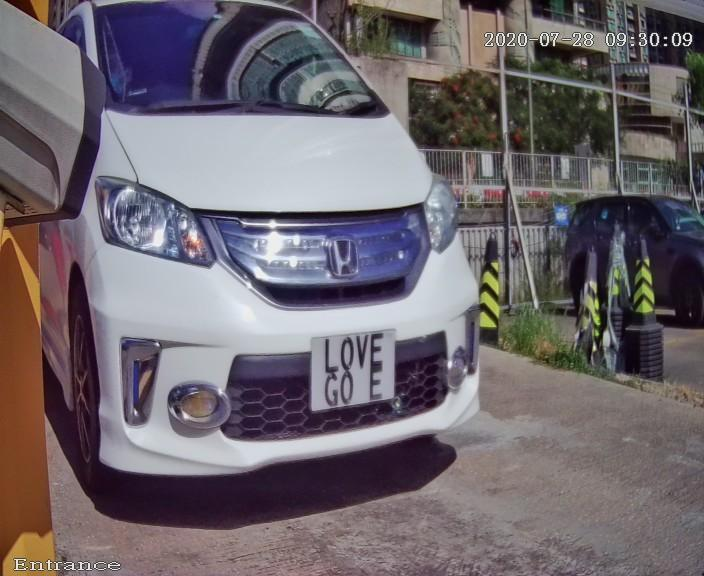privatecar: (19, 8, 532, 541)
